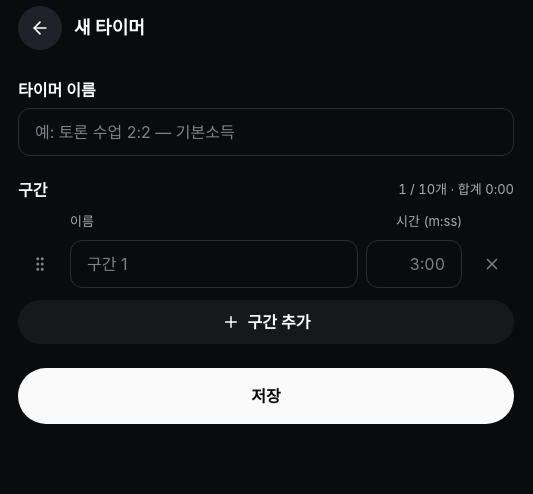
Test case: TimerEditor › shows a field format error for
expect the field labelled "타이머 이름" is shown: met, box top-left (18, 108), bottom-right (514, 156)
Click the button "저장".
click(266, 396)  # box top-left (18, 368), bottom-right (514, 424)
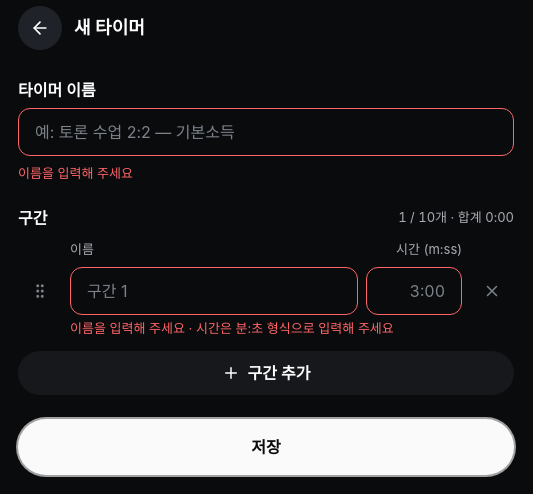
expect the text "시간은 분:초 형식으로 입력해 주세요" is shown: met, box top-left (196, 320), bottom-right (394, 336)
